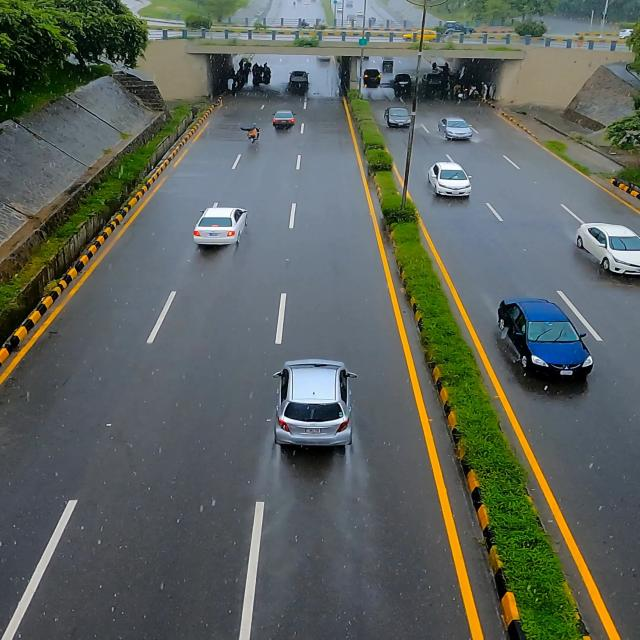Car: (495, 296, 601, 393), (277, 355, 362, 455), (575, 215, 640, 282), (194, 207, 256, 248), (424, 160, 476, 204), (439, 112, 477, 146), (381, 102, 418, 131)
